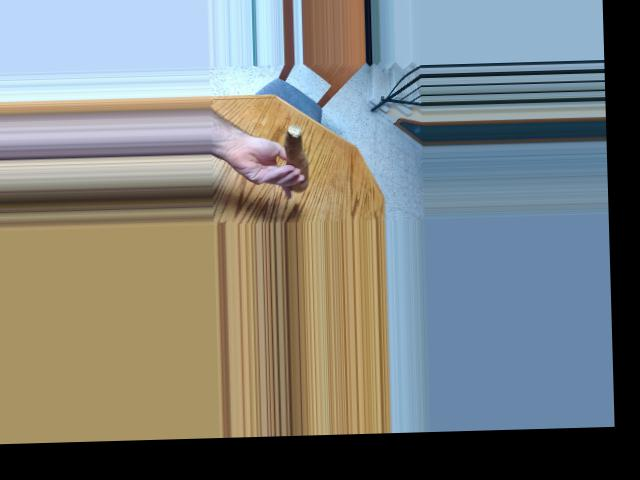sweet_potato: (279, 129, 312, 187)
